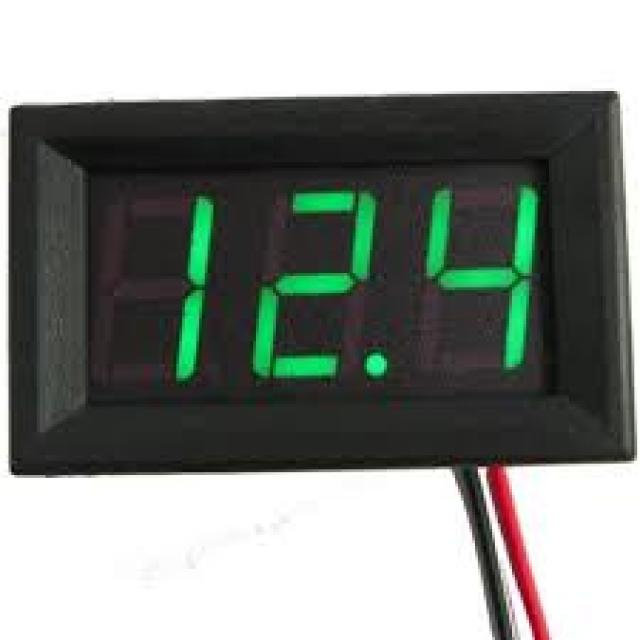.: (360, 348, 393, 382)
1: (147, 170, 251, 396)
2: (256, 172, 399, 398)
4: (419, 174, 554, 390)
screen: (86, 168, 556, 398)
